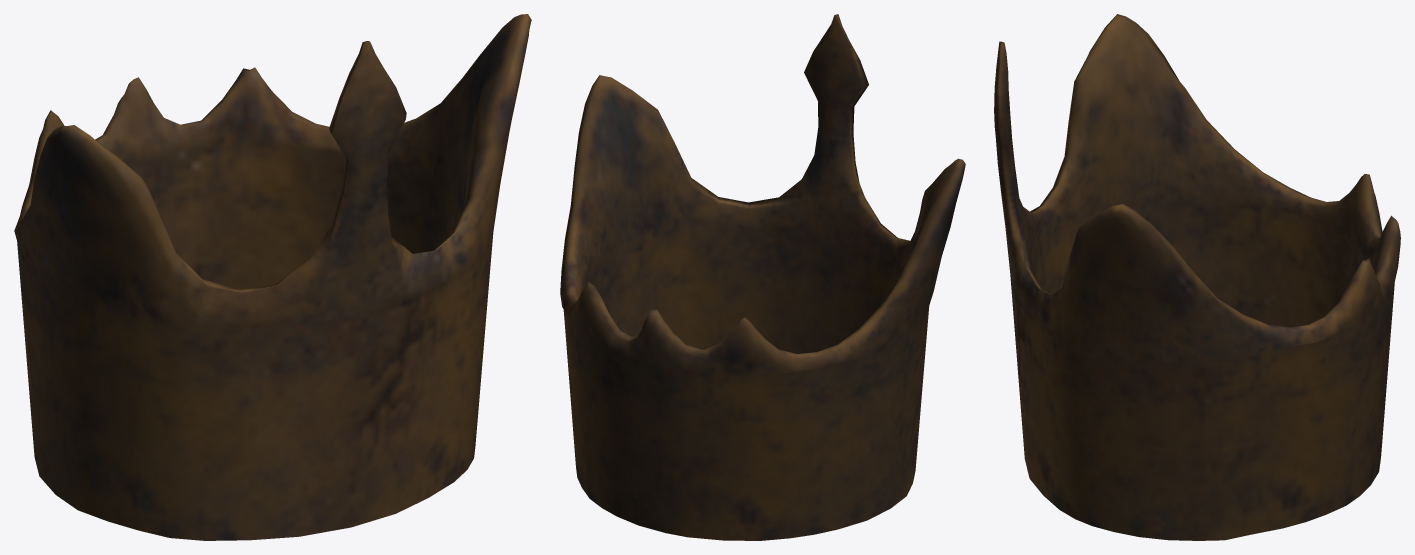
Rendered from Relic_Pride01.obj.
The picture shows the model from 3 angles, left to right: view 1: azimuth 30°, elevation 25°; view 2: azimuth 150°, elevation 25°; view 3: azimuth 270°, elevation 25°; orthographic projection. The views are drawn at different scales.
Parts seen in each view (by area): view 1: Relic_Pride; view 2: Relic_Pride; view 3: Relic_Pride.
Boxes of the visible parts, left/top/right/bottom form: Relic_Pride: left=14, top=14, right=531, bottom=540; Relic_Pride: left=560, top=14, right=965, bottom=540; Relic_Pride: left=994, top=14, right=1400, bottom=540.
Bounding box in the file's own units: 53.15 × 53.43 × 47.1.
Materials: 1 (1 with a texture image).
